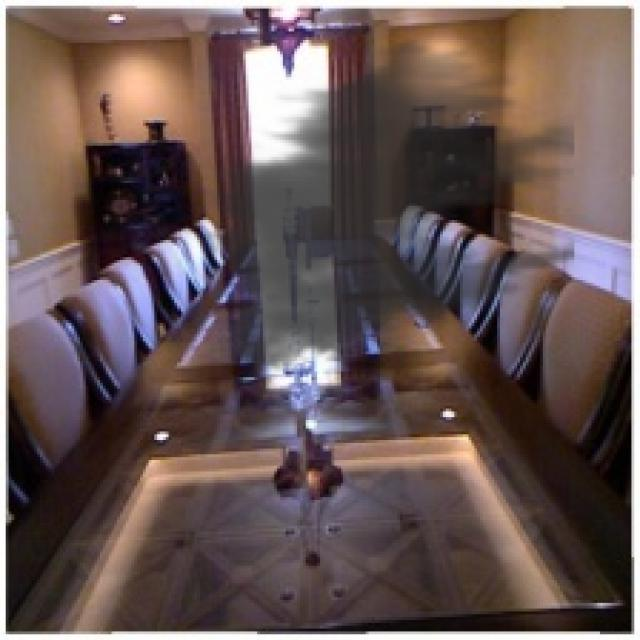Smoke: (195, 29, 574, 388)
